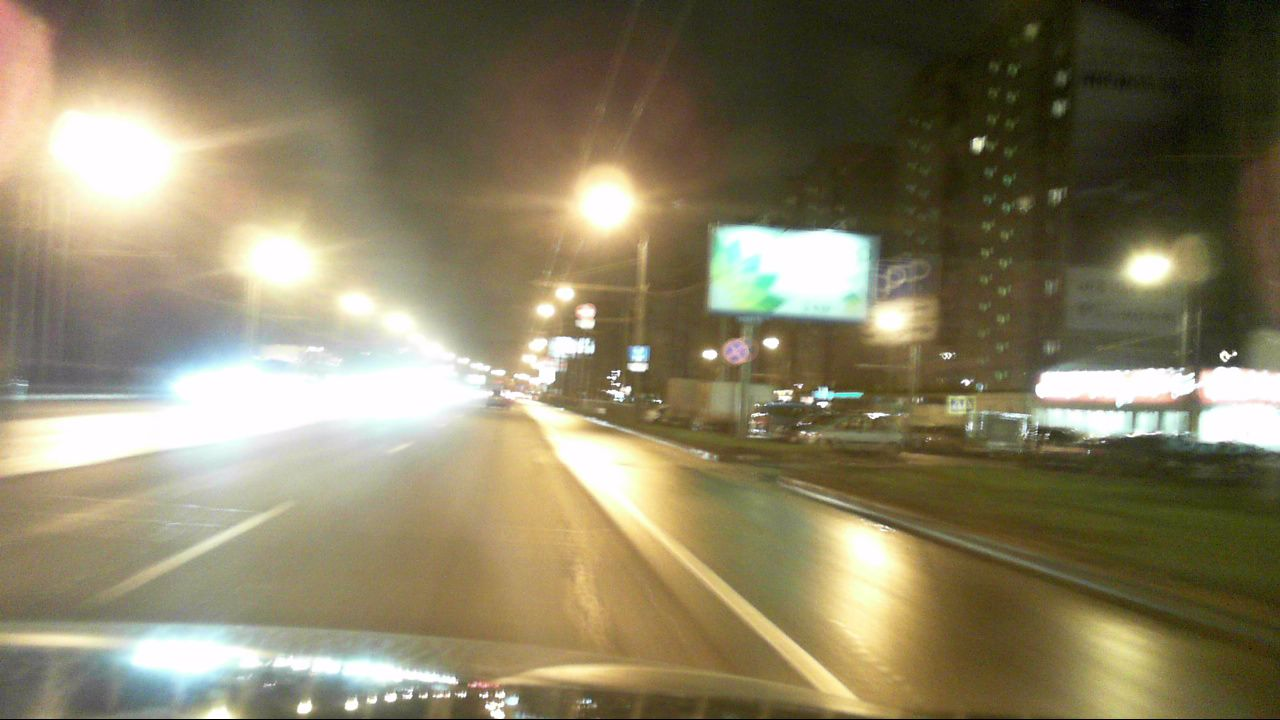No Parking: (723, 339, 747, 363)
